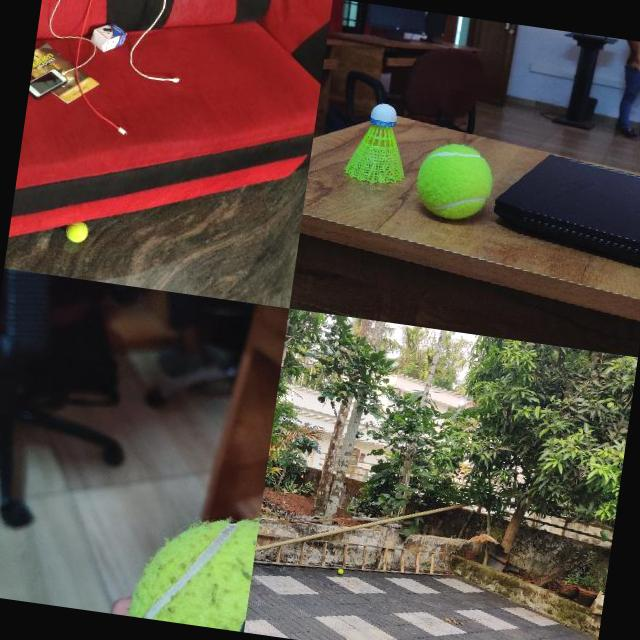Tennis Ball: (127, 501, 260, 632), (413, 140, 498, 223), (64, 225, 90, 244), (338, 568, 344, 575)
